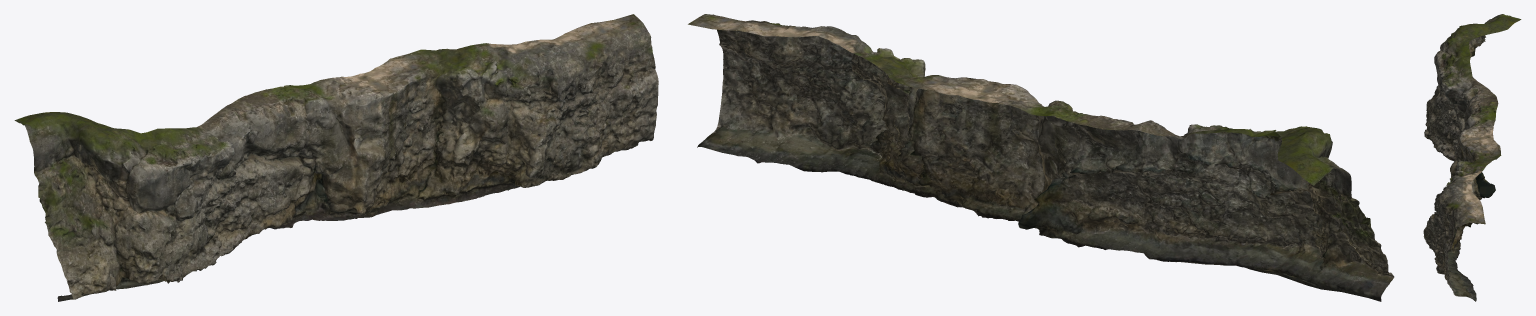
The model's file is cliff.glb.
3 views of the same model, side by side, from view 1: azimuth 30°, elevation 25°; view 2: azimuth 150°, elevation 25°; view 3: azimuth 270°, elevation 25° (orthographic). The views are drawn at different scales.
Visible parts, largest first — view 1: coastal_cliff_02_LOD0; view 2: coastal_cliff_02_LOD0; view 3: coastal_cliff_02_LOD0.
Boxes of the visible parts, box(x1,y1,x2,y2) form: coastal_cliff_02_LOD0: box(14, 14, 658, 301); coastal_cliff_02_LOD0: box(688, 14, 1394, 301); coastal_cliff_02_LOD0: box(1423, 14, 1521, 301).
Size of the model in its own units: 40.93 by 10.05 by 8.65.
Materials: 1 (1 with a texture image).
